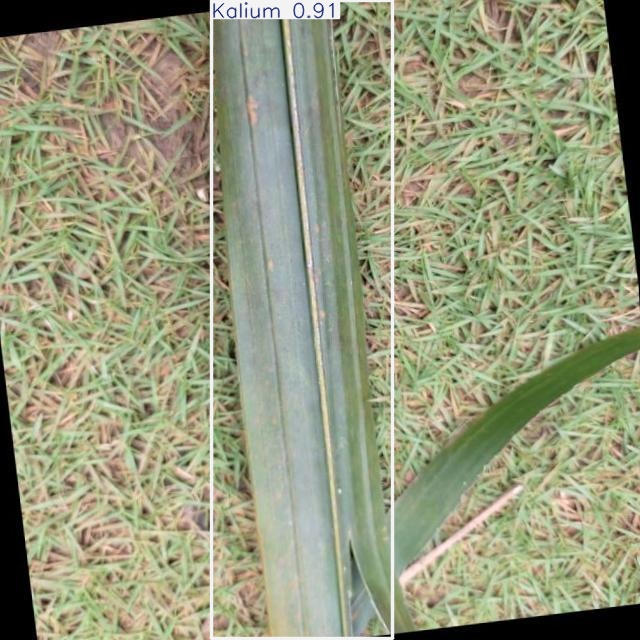Kalium: (211, 1, 392, 639)
